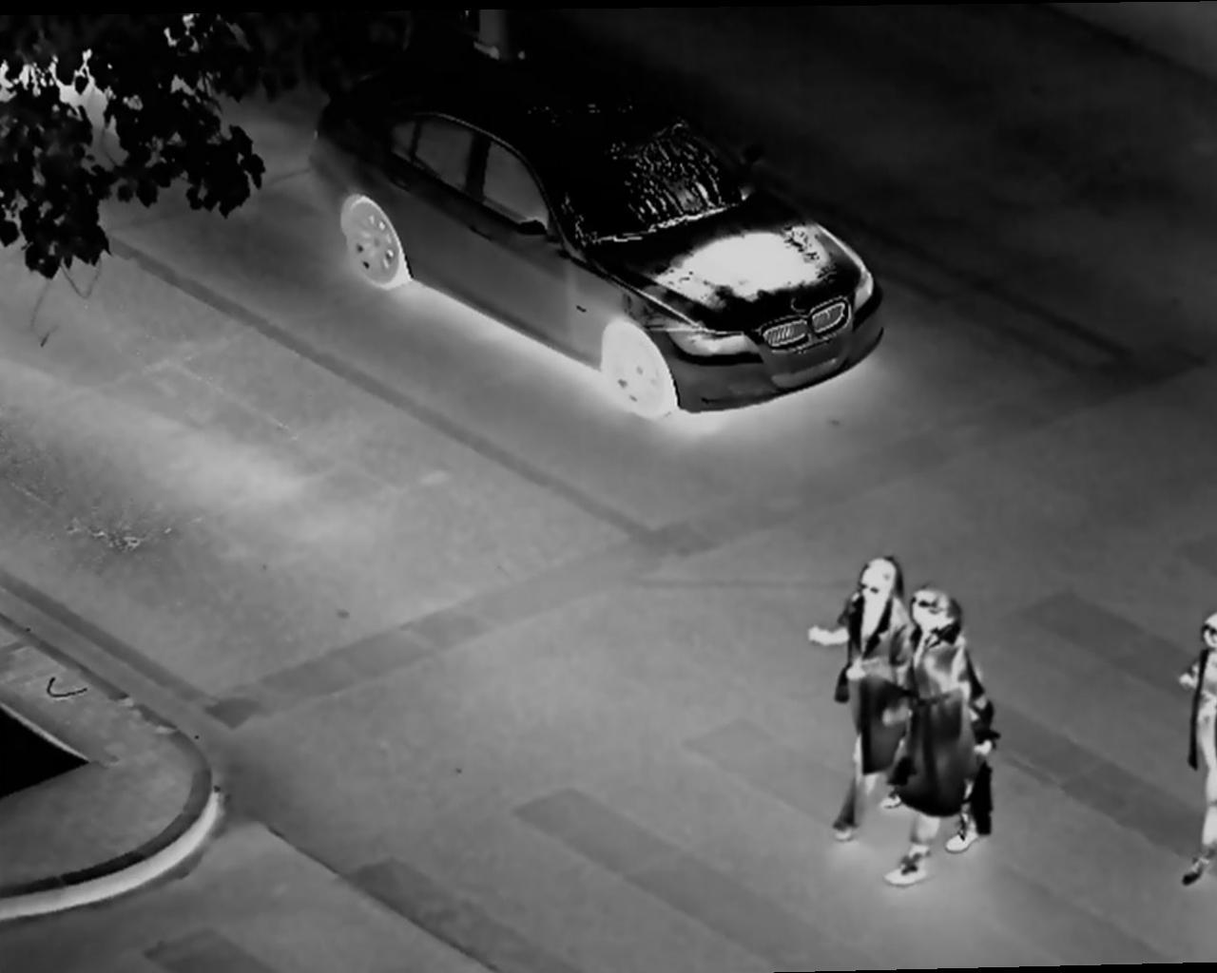person: (897, 597, 1006, 876), (817, 554, 930, 794)
